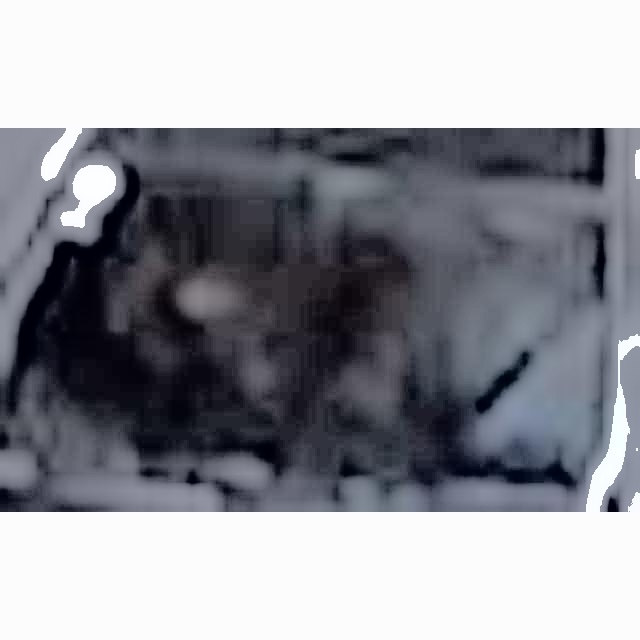pakai: (418, 196, 597, 444)
tidak-pakai: (128, 162, 375, 478)
